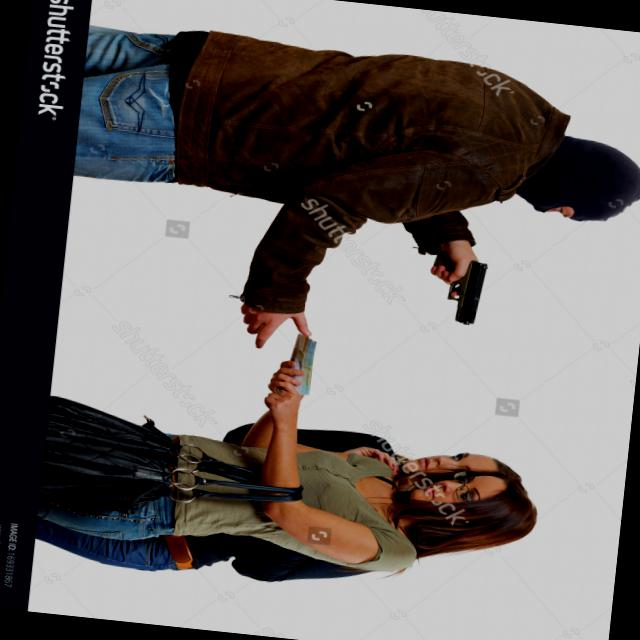handgun: (424, 248, 488, 329)
